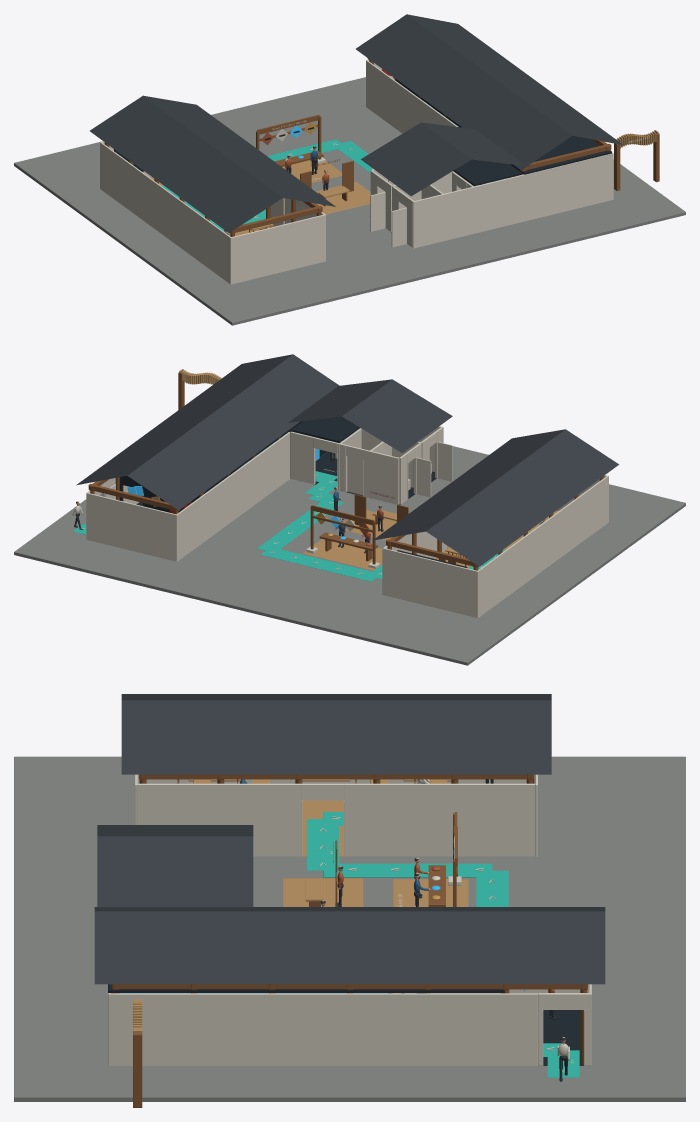
Rendered from gogeum.glb.
3 views of the same model, one above another, from view 1: azimuth 30°, elevation 25°; view 2: azimuth 150°, elevation 25°; view 3: azimuth 270°, elevation 25° (orthographic). The views are drawn at different scales.
Visible parts, largest first — view 1: Courtyard, Concept gable roof, Concept gable roof.001, South wall, Hall west, Concept gable roof.002, Hall south, Inner long wall, Z3 ceiling, Z4 ceiling, Photo deck, 5B 4.8 x 2.8m activity deck (+5 smaller); view 2: Courtyard, Concept gable roof, Concept gable roof.001, Hall west, Concept gable roof.002, Inner long wall, Hall north, North wall, S03 administration left, Route 1200mm 8, D04 Z4 courtyard exit right, 5B 4.8 x 2.8m activity deck (+10 smaller); view 3: Courtyard, Concept gable roof, Concept gable roof.001, East wall, D05 education entry right, Concept gable roof.002, D05 education entry left, Long beam.001, Long beam.003, Route 1200mm 9, Photo deck, Route 1200mm 10 (+11 smaller).
Part boxes in pixels (left/top/right/bottom): Courtyard: left=14, top=77, right=685, bottom=325; Concept gable roof: left=356, top=14, right=623, bottom=170; Concept gable roof.001: left=90, top=95, right=335, bottom=232; South wall: left=412, top=152, right=613, bottom=248; Hall west: left=100, top=142, right=231, bottom=284; Concept gable roof.002: left=361, top=122, right=531, bottom=196; Hall south: left=230, top=214, right=325, bottom=284; Inner long wall: left=366, top=60, right=458, bottom=133; Z3 ceiling: left=432, top=106, right=611, bottom=174; Z4 ceiling: left=453, top=159, right=521, bottom=186; Photo deck: left=316, top=181, right=370, bottom=214; 5B 4.8 x 2.8m activity deck: left=282, top=160, right=342, bottom=182; Courtyard: left=14, top=446, right=685, bottom=665; Concept gable roof: left=76, top=354, right=339, bottom=510; Concept gable roof.001: left=372, top=429, right=618, bottom=566; Hall west: left=476, top=476, right=608, bottom=617; Concept gable roof.002: left=288, top=379, right=452, bottom=453; Inner long wall: left=176, top=432, right=290, bottom=560; Hall north: left=382, top=548, right=478, bottom=617; North wall: left=86, top=492, right=177, bottom=561; S03 administration left: left=363, top=449, right=399, bottom=504; Route 1200mm 8: left=261, top=547, right=375, bottom=581; D04 Z4 courtyard exit right: left=290, top=431, right=314, bottom=484; 5B 4.8 x 2.8m activity deck: left=303, top=539, right=382, bottom=570; Courtyard: left=14, top=756, right=685, bottom=1101; Concept gable roof: left=94, top=907, right=605, bottom=984; Concept gable roof.001: left=121, top=694, right=551, bottom=774; East wall: left=108, top=993, right=537, bottom=1065; D05 education entry right: left=344, top=783, right=535, bottom=856; Concept gable roof.002: left=97, top=825, right=253, bottom=907; D05 education entry left: left=137, top=783, right=301, bottom=856; Long beam.001: left=112, top=984, right=587, bottom=989; Long beam.003: left=139, top=774, right=533, bottom=779; Route 1200mm 9: left=323, top=863, right=492, bottom=877; Photo deck: left=283, top=878, right=363, bottom=906; Route 1200mm 10: left=307, top=819, right=339, bottom=870.
Size of the model in its own units: 30.83 by 5.15 by 25.
